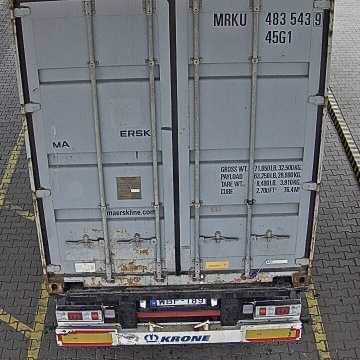serial_id: (214, 12, 323, 25)
